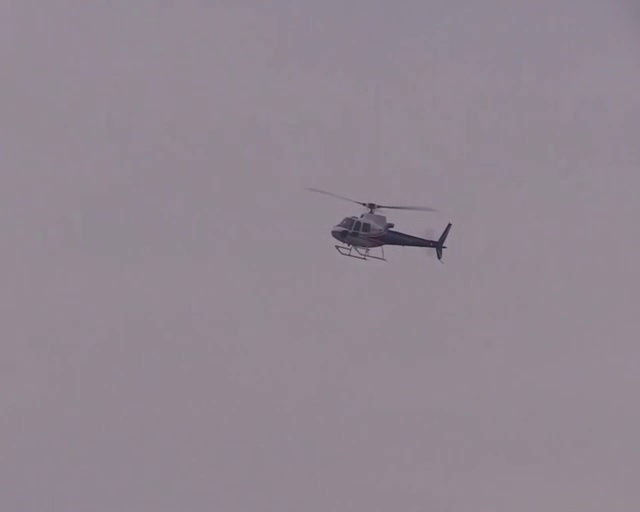HELICOPTER: (305, 184, 453, 262)
